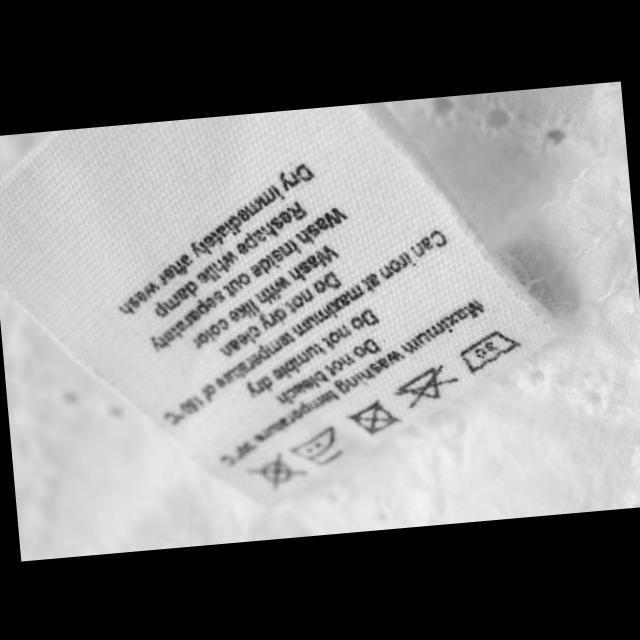30C: (453, 322, 528, 379)
DN_bleach: (386, 358, 464, 412)
DN_dry_clean: (241, 446, 309, 496)
DN_tumble_dry: (339, 392, 406, 444)
iron_medium: (282, 418, 350, 472)
